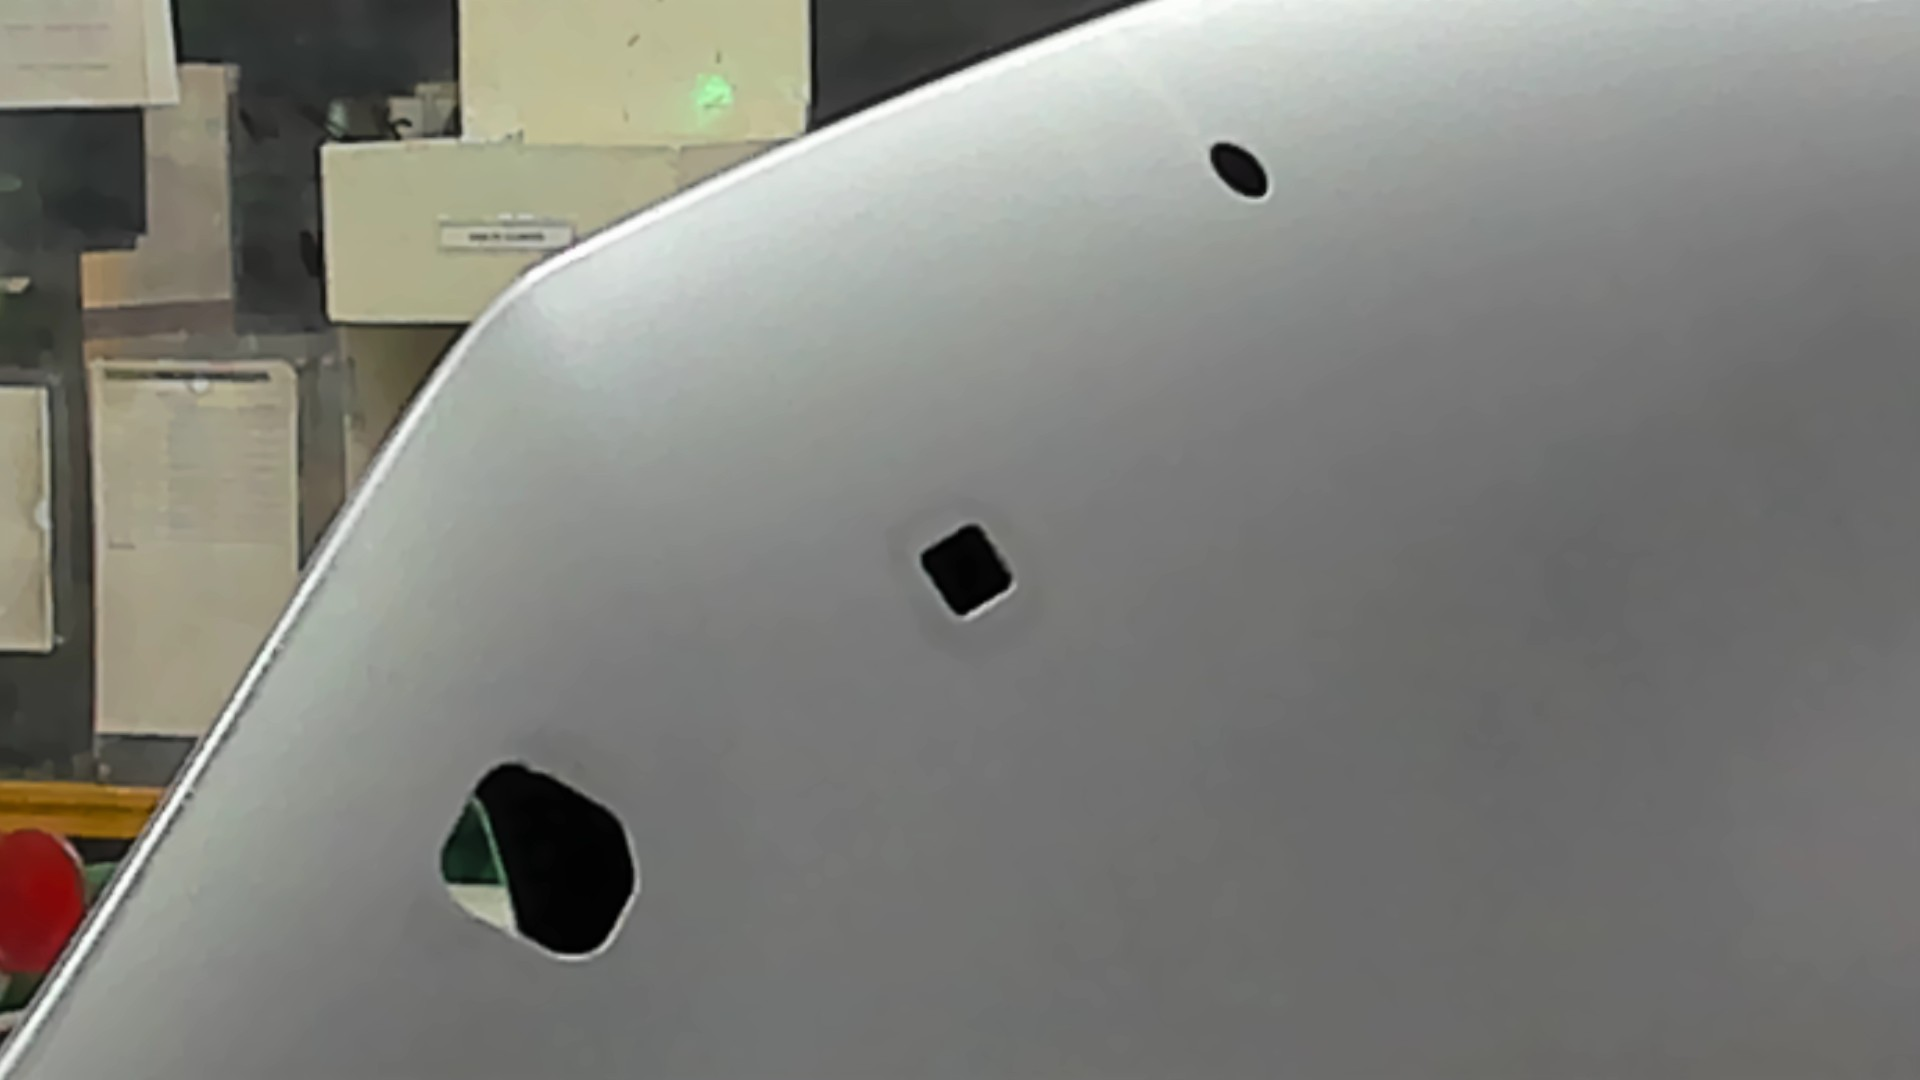chico: (1192, 123, 1288, 214)
grande: (419, 740, 661, 982)
mediano: (902, 505, 1036, 632)
